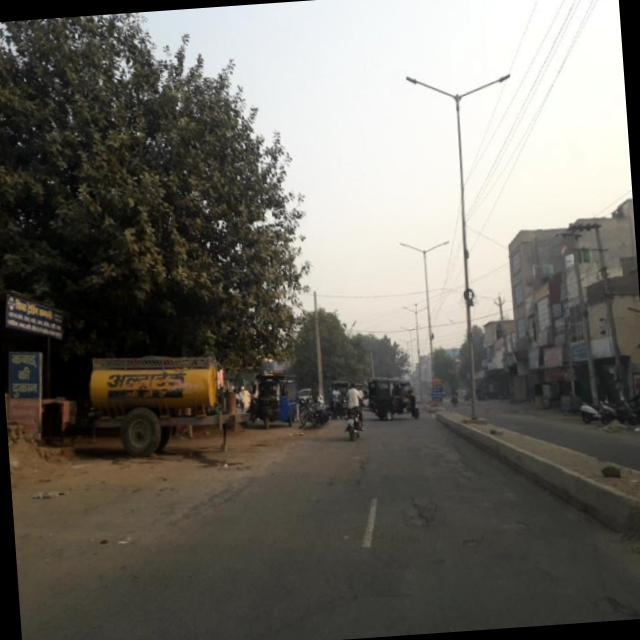pothole: (434, 432, 481, 488), (391, 486, 432, 535), (497, 514, 533, 536), (590, 592, 626, 614), (457, 534, 479, 550)
